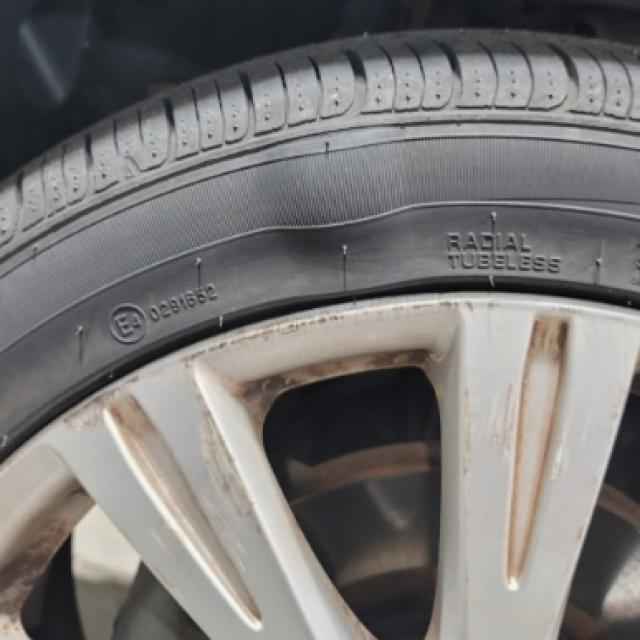Bulge: (219, 81, 441, 284)
